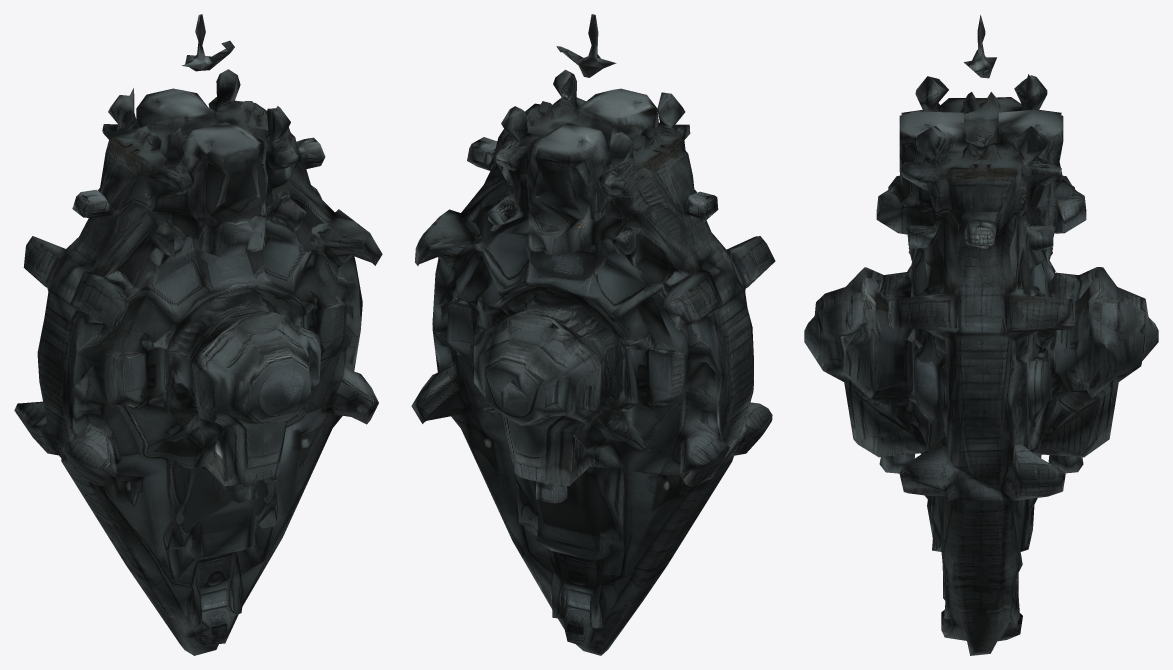
File: defense_platform.glb
The picture shows the model from 3 angles, left to right: view 1: azimuth 30°, elevation 25°; view 2: azimuth 150°, elevation 25°; view 3: azimuth 270°, elevation 25°; orthographic projection.
Parts seen in each view (by area): view 1: mesh_node; view 2: mesh_node; view 3: mesh_node.
Boxes of the visible parts, left/top/right/bottom form: mesh_node: left=14, top=14, right=382, bottom=655; mesh_node: left=411, top=14, right=775, bottom=655; mesh_node: left=804, top=15, right=1158, bottom=655.
Bounding box in the file's own units: 0.9491 × 1.91 × 0.9595.
Materials: 1 (1 with a texture image).
